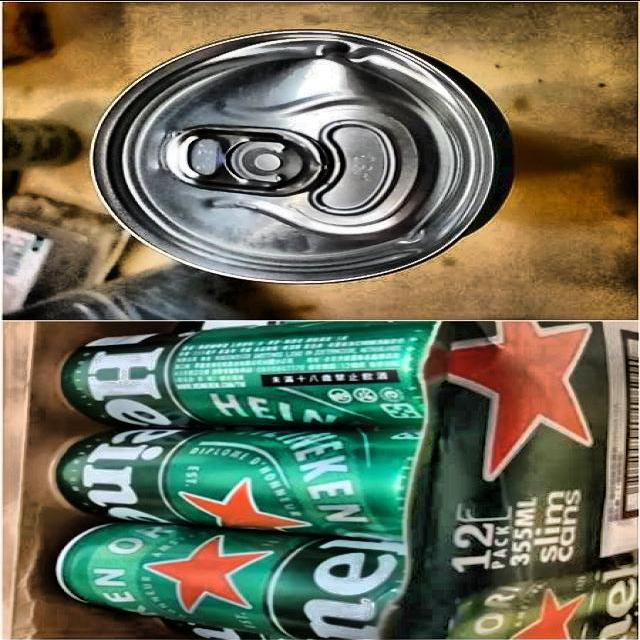Aluminum Can: (81, 21, 522, 290), (39, 422, 436, 541), (42, 518, 418, 640), (59, 314, 452, 428)
